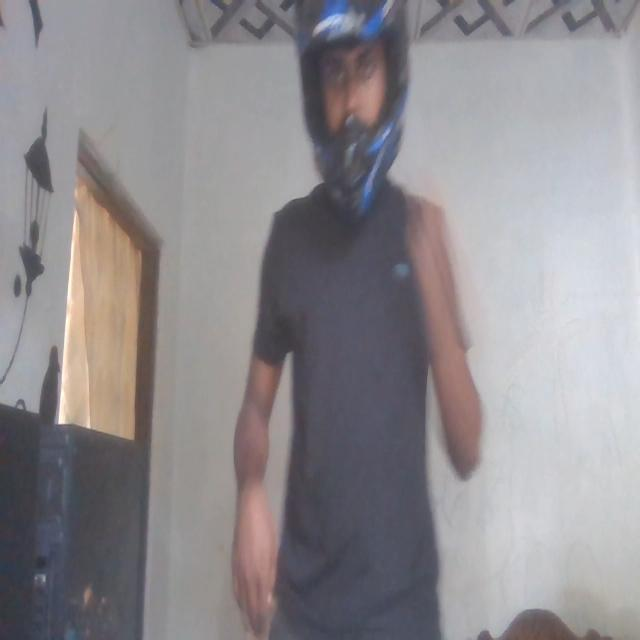Helmet_Wearer: (288, 0, 416, 210)
Person: (244, 0, 468, 640)
